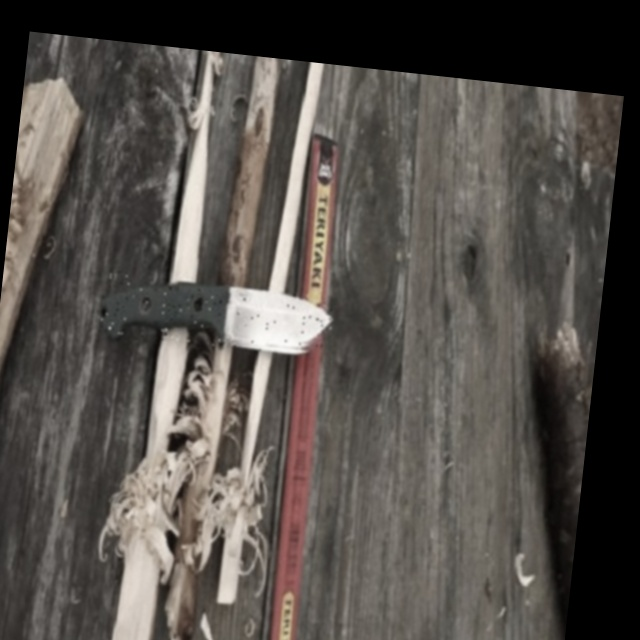Sharp-Object: (98, 273, 337, 358)
